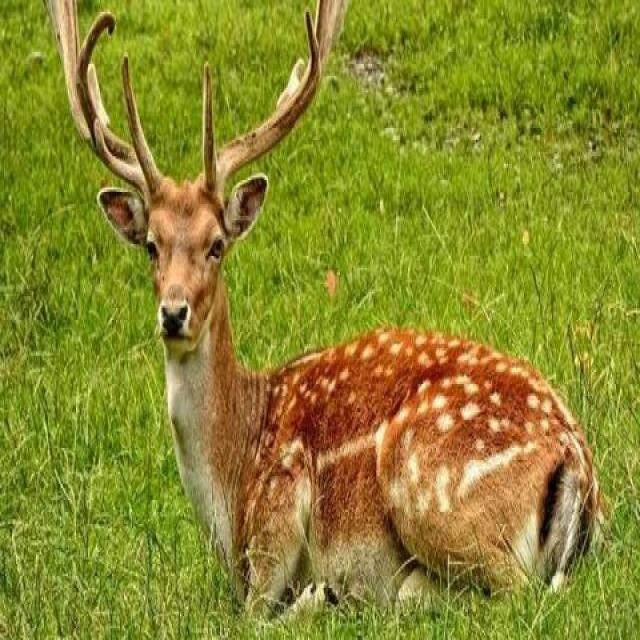deer: (81, 41, 568, 618)
